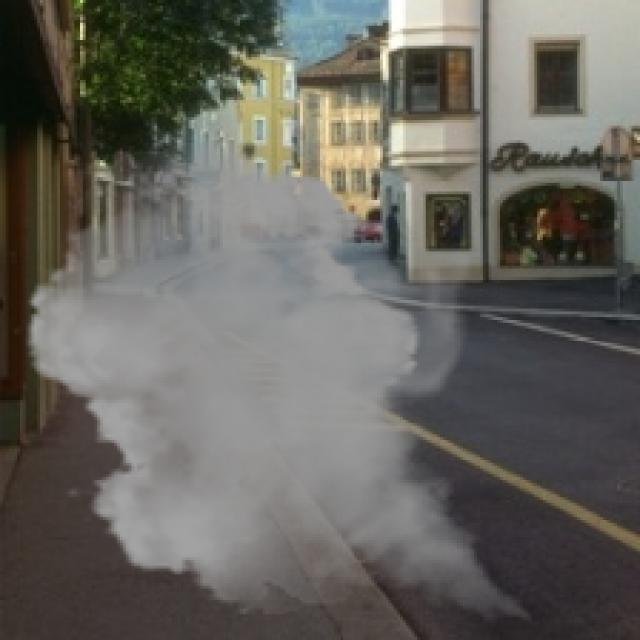Smoke: (11, 115, 560, 634)
